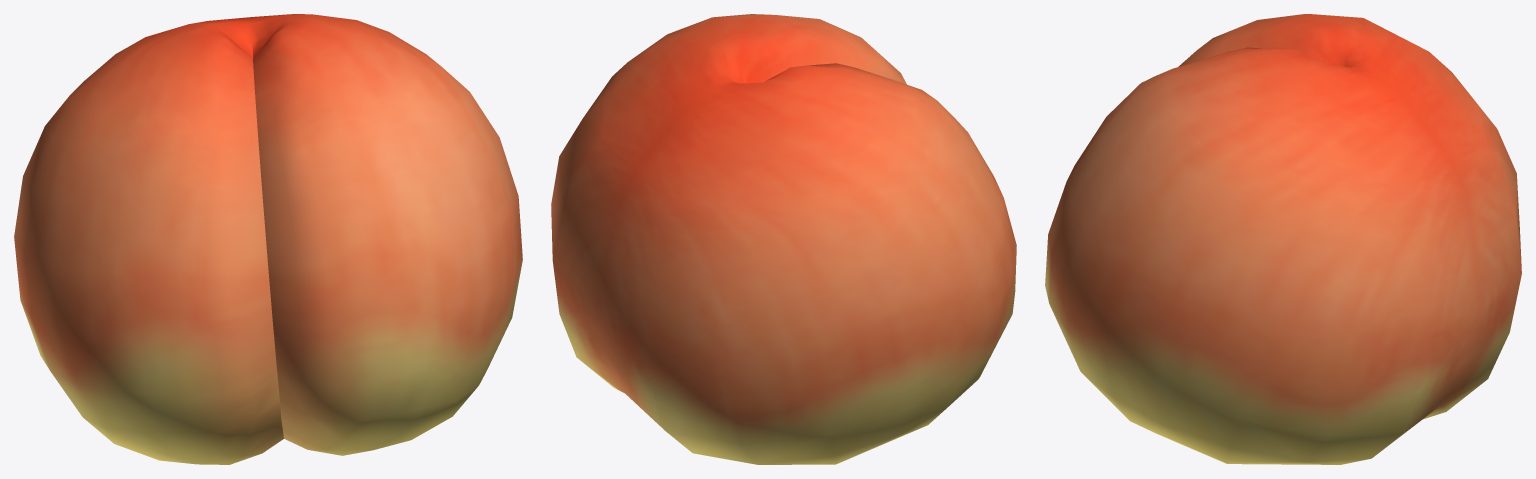
The model's file is peach.glb.
3 views of the same model, side by side, from view 1: azimuth 30°, elevation 25°; view 2: azimuth 150°, elevation 25°; view 3: azimuth 270°, elevation 25° (orthographic). The views are drawn at different scales.
Parts seen in each view (by area): view 1: Peach2__mPltFruitPeach; view 2: Peach2__mPltFruitPeach; view 3: Peach2__mPltFruitPeach.
Boxes of the visible parts, box(x1,y1,x2,y2) form: Peach2__mPltFruitPeach: box(14, 14, 522, 464); Peach2__mPltFruitPeach: box(551, 14, 1016, 464); Peach2__mPltFruitPeach: box(1045, 14, 1521, 464).
Bounding box in the file's own units: 0.4175 × 0.372 × 0.4094.
1 material, 1 textured.
